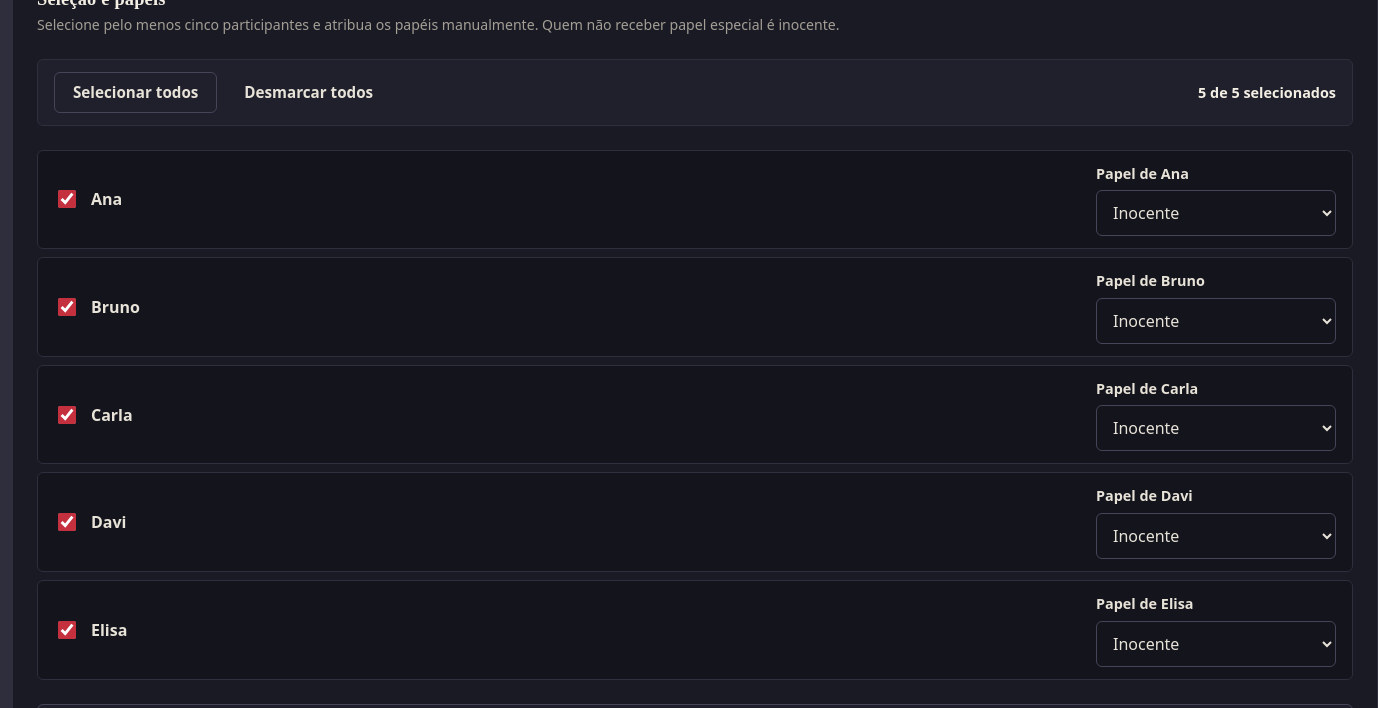
Test case: Configuração da partida (integração) › inicia sem detetive, com inocentes padrão e todos vivos, sem sorteio
Expected: the text "5 de 5 selecionados" is shown, x1=1198 y1=82 x2=1336 y2=103
Select "Assassino" in the dropdown labelled "Papel de Ana" at (1216, 213), box x1=1096 y1=190 x2=1336 y2=236
(page scrolled)
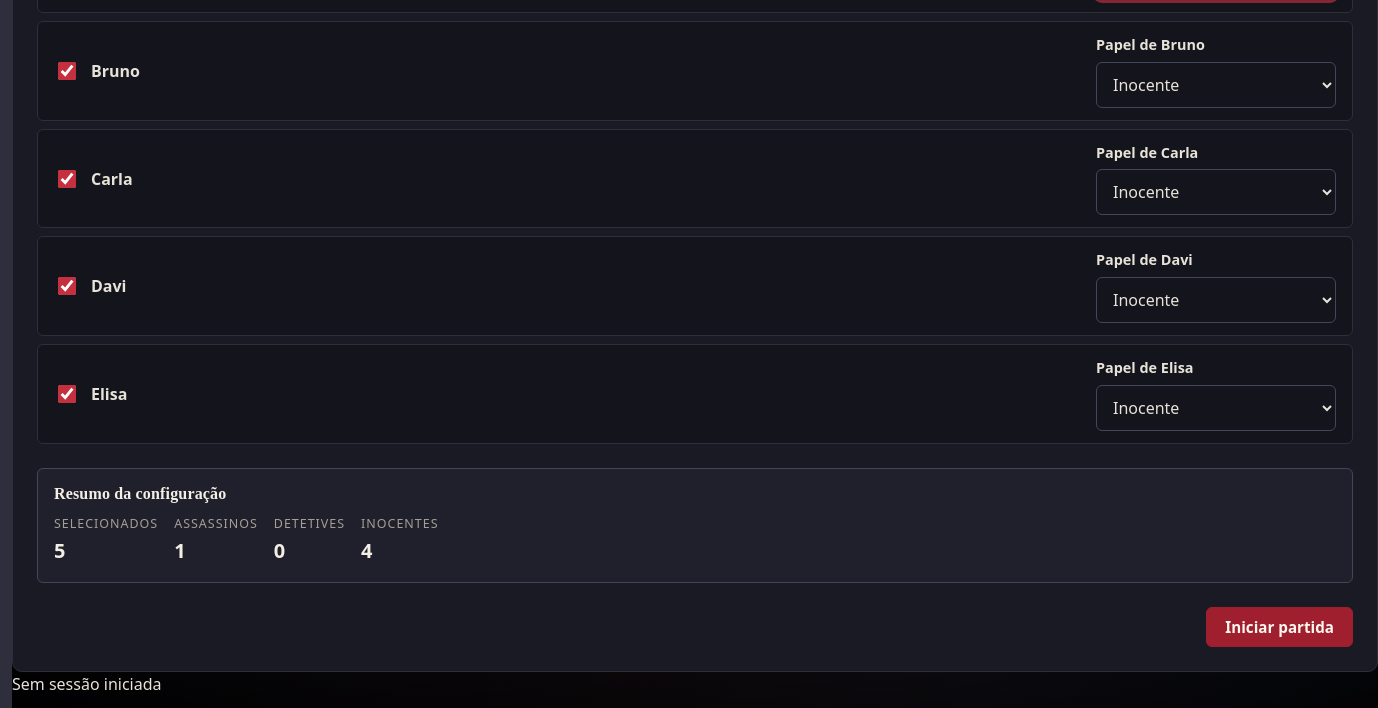
Expected: the button "Iniciar partida" is enabled
Click the button "Iniciar partida" at (1280, 627), box x1=1206 y1=607 x2=1353 y2=647
(page scrolled)
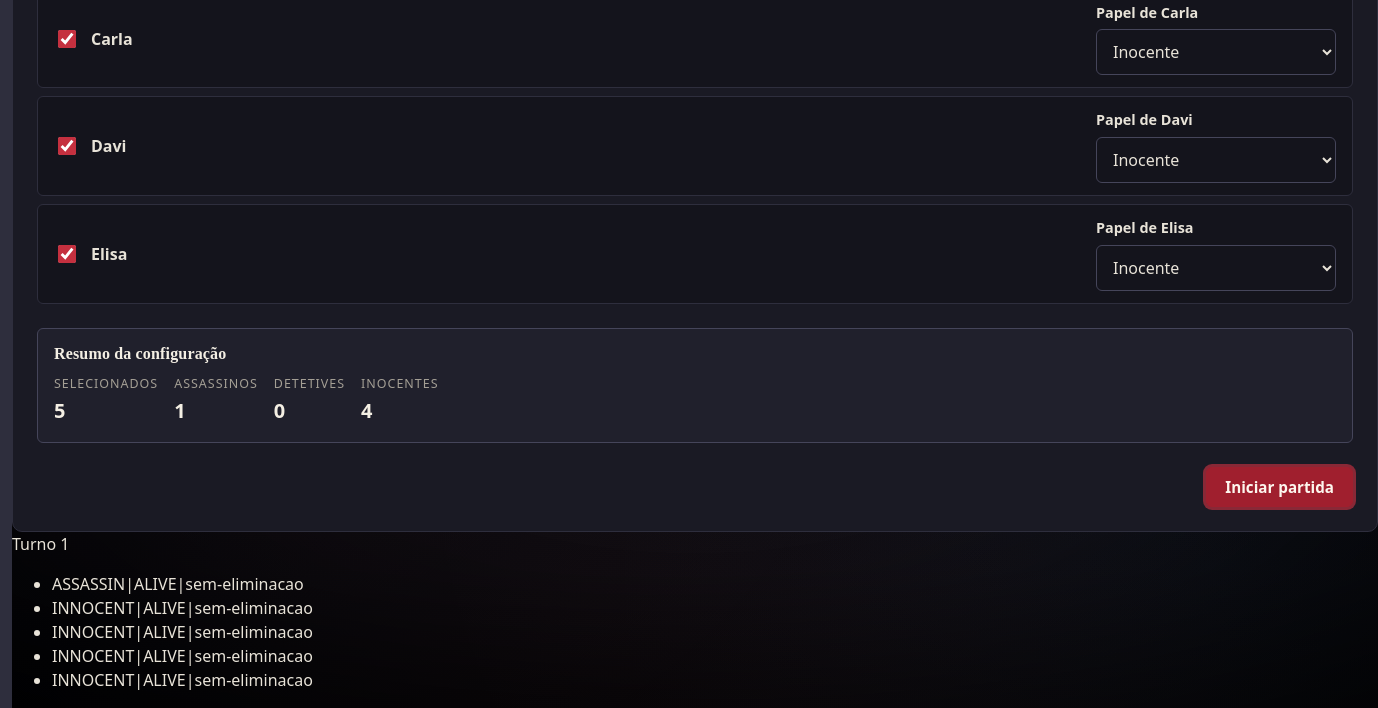
Expected: the text "Turno 1" is shown, x1=12 y1=533 x2=70 y2=555
Expected: the list item with test id "role-p-1" reads "ASSASSIN|ALIVE|sem-eliminacao", x1=52 y1=573 x2=125 y2=595
Expected: the list item with test id "role-p-2" reads "INNOCENT|ALIVE|sem-eliminacao", x1=52 y1=597 x2=134 y2=619
